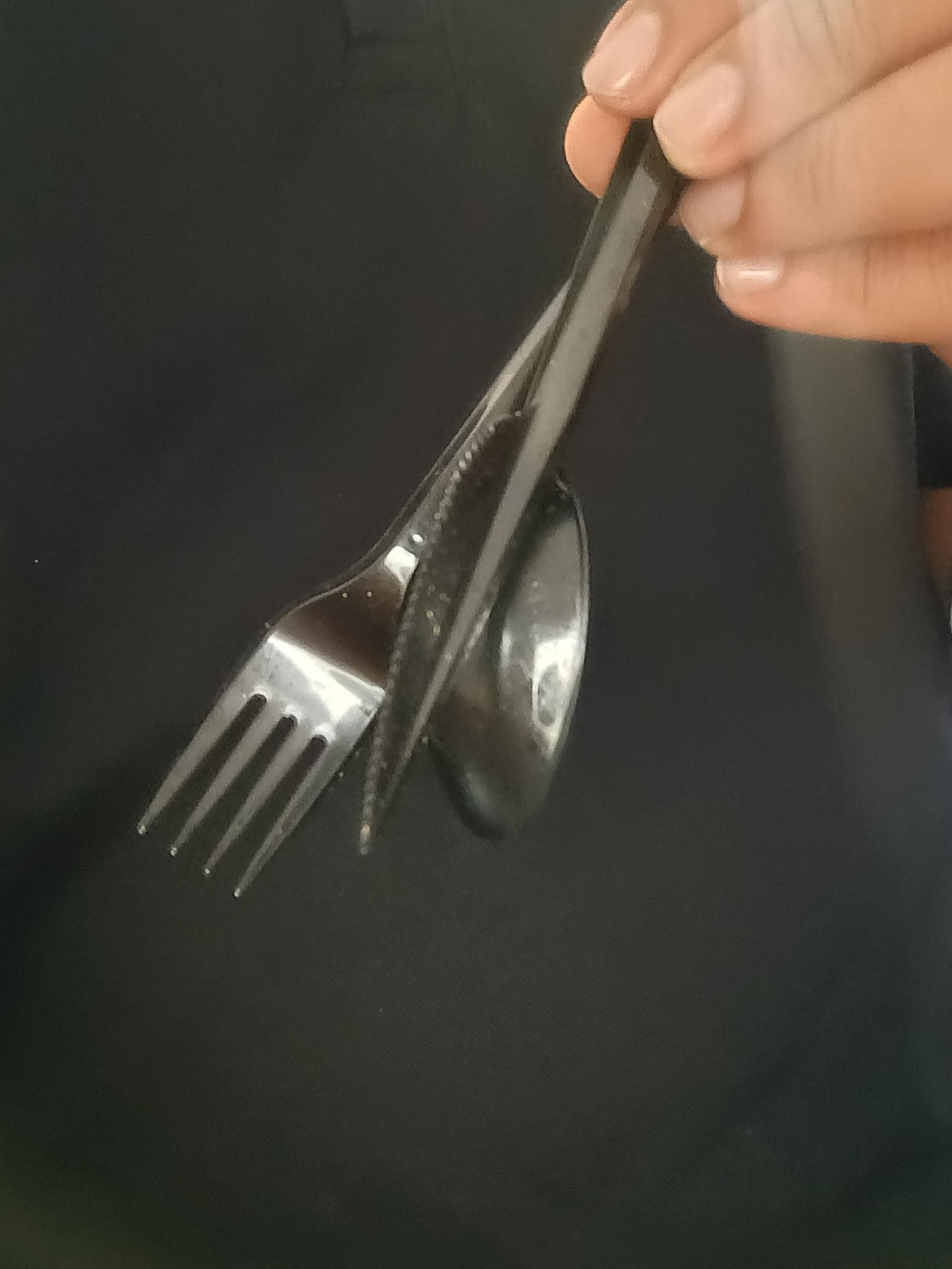Ordinario: (138, 120, 678, 899)
